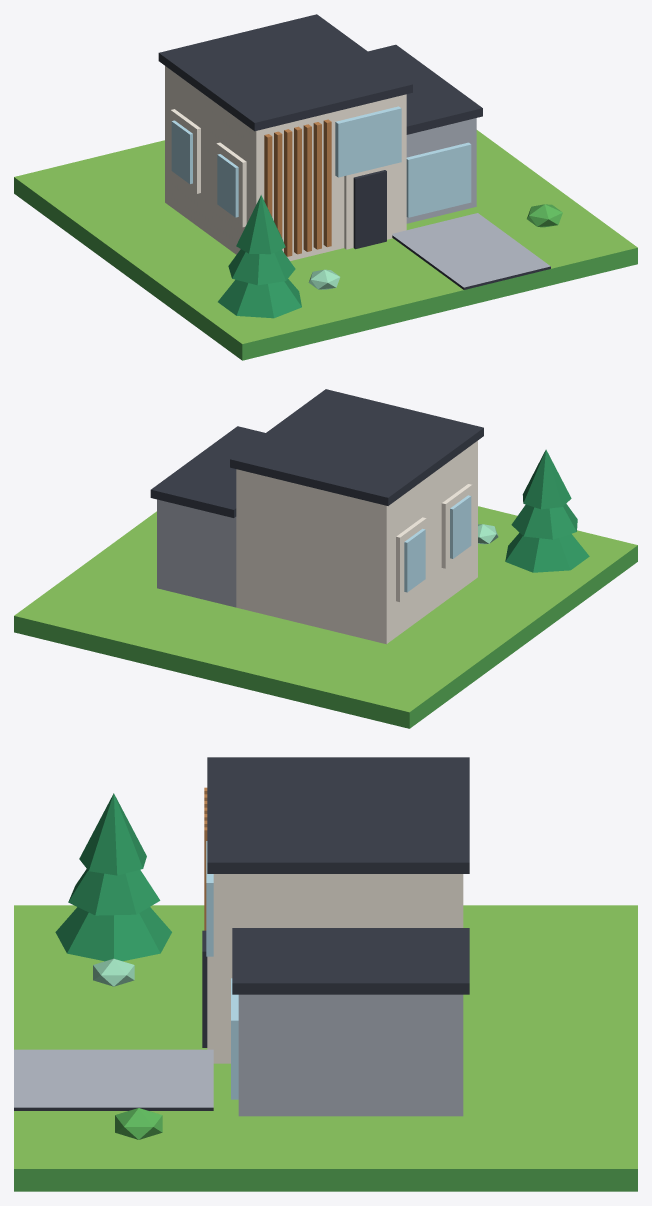
File: house_minimalist.glb
The picture shows the model from 3 angles, top to bottom: view 1: azimuth 30°, elevation 25°; view 2: azimuth 150°, elevation 25°; view 3: azimuth 270°, elevation 25°; orthographic projection. The views are drawn at different scales.
Visible parts, largest first — view 1: house_minimalist; view 2: house_minimalist; view 3: house_minimalist.
Part boxes in pixels (<box>): house_minimalist: <box>14,14,637,360</box>; house_minimalist: <box>14,389,637,728</box>; house_minimalist: <box>14,757,637,1191</box>.
Size of the model in its own units: 1 by 0.4 by 1.
